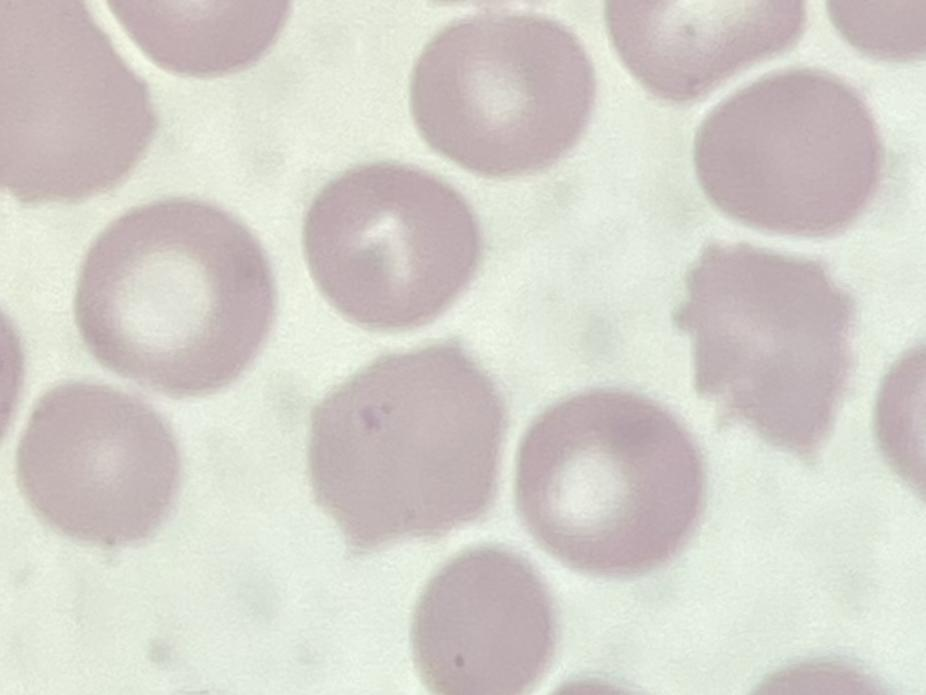Uninfected: (308, 334, 511, 550), (70, 196, 277, 404), (513, 387, 706, 578), (687, 239, 856, 454), (693, 62, 881, 238), (417, 7, 594, 174), (305, 162, 476, 330), (18, 379, 182, 544), (413, 542, 558, 695)
